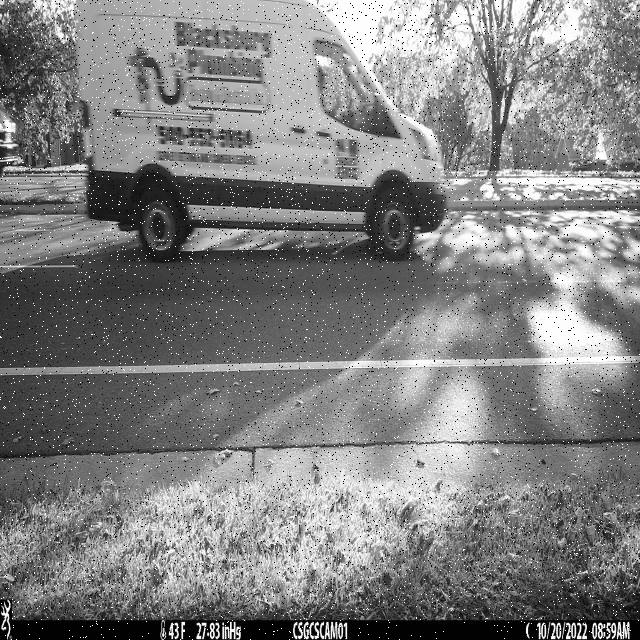Van: (73, 0, 449, 264)
